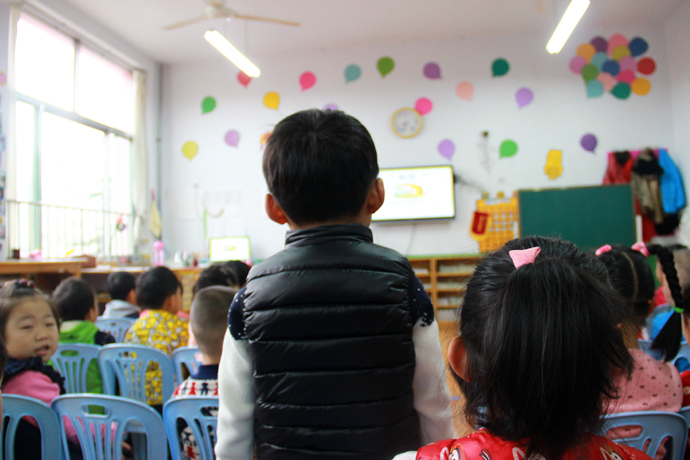other: (209, 94, 464, 456), (2, 274, 77, 456)
